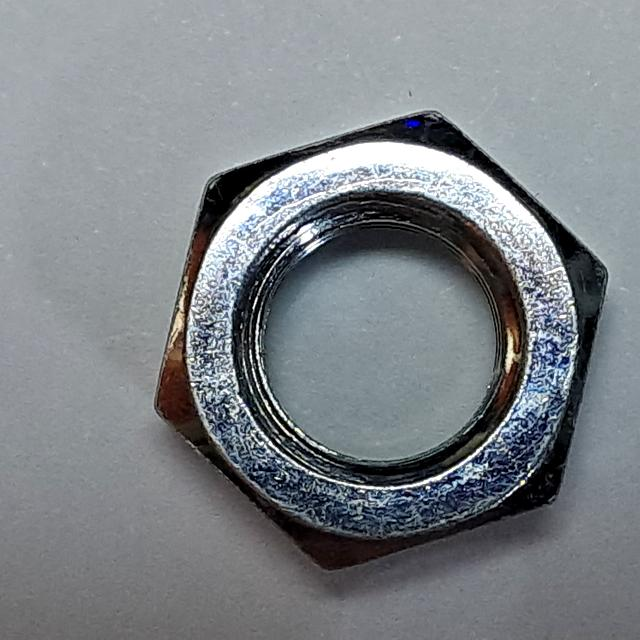Excellent: (139, 102, 622, 586)
